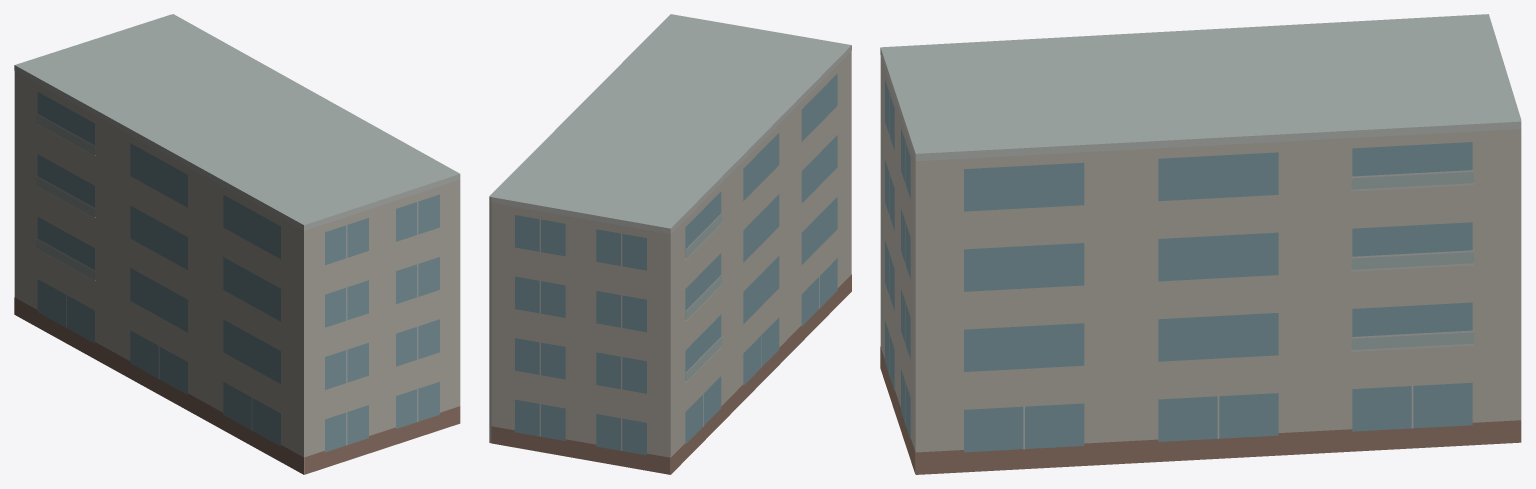
The model's file is survey-upis-32922327.glb.
3 views of the same model, side by side, from view 1: azimuth 30°, elevation 25°; view 2: azimuth 150°, elevation 25°; view 3: azimuth 270°, elevation 25° (orthographic). The views are drawn at different scales.
Parts seen in each view (by area): view 1: survey-upis-32922327.tmp; view 2: survey-upis-32922327.tmp; view 3: survey-upis-32922327.tmp.
Part boxes in pixels (x1,y1,x2,y2): survey-upis-32922327.tmp: (14, 14, 460, 474); survey-upis-32922327.tmp: (489, 14, 851, 474); survey-upis-32922327.tmp: (880, 14, 1521, 474).
Size of the model in its own units: 10.01 by 10.7 by 19.37.
